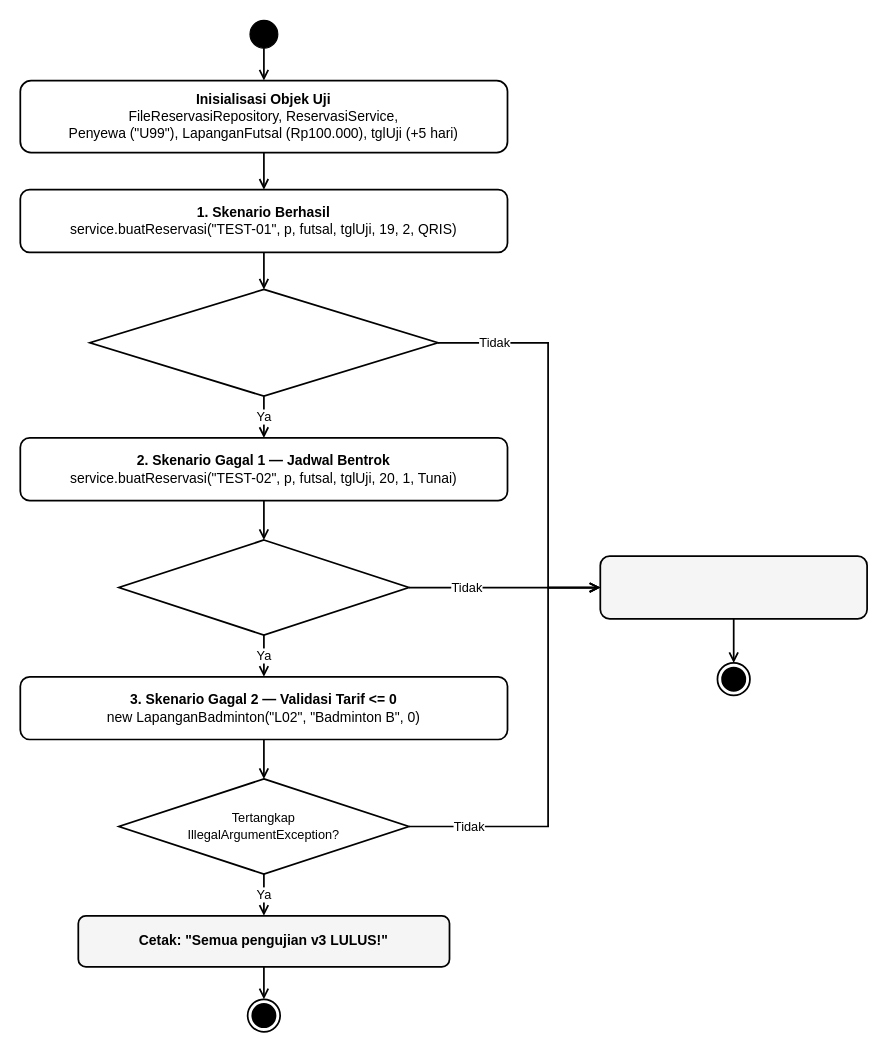
Some shapes in this 889 by 1053 pixel diagram are drawn without their labels. Each missing label, with the centre of its shape:
"cek() Gagal throw new AssertionError(pesan)" belongs at (733,587).
"Status == TERKONFIRMASI && Total == 240000 && Daftar != kosong?" belongs at (263,342).
"Tertangkap IllegalStateException?" belongs at (263,587).
